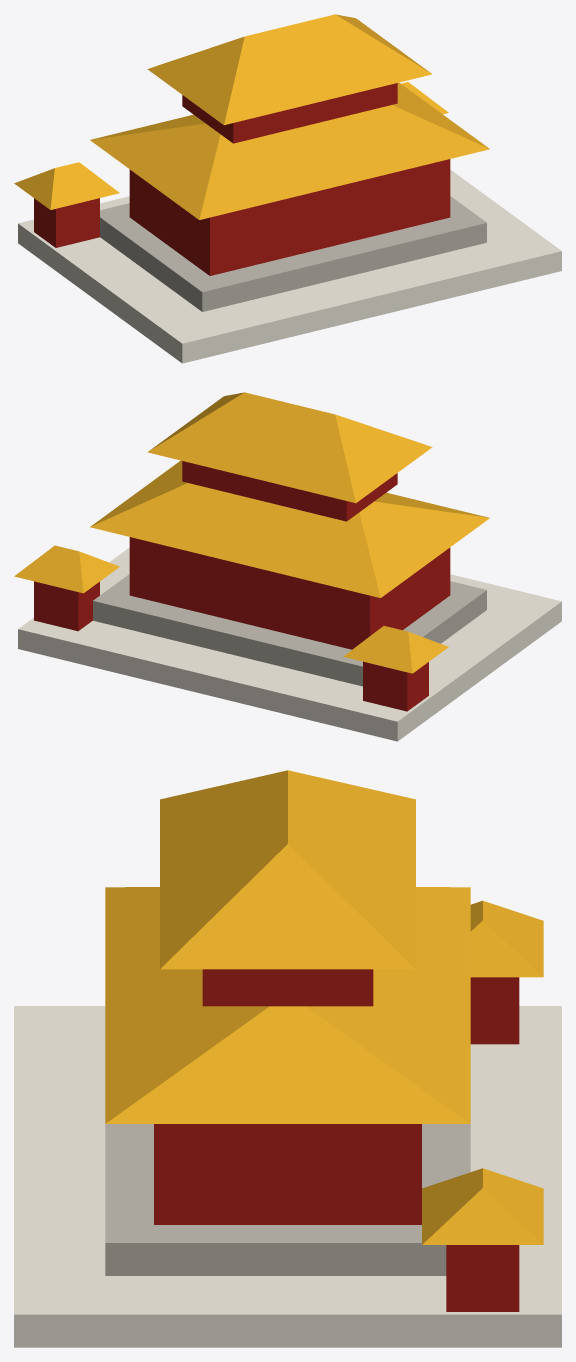
File: forbidden_city.glb
The picture shows the model from 3 angles, top to bottom: view 1: azimuth 30°, elevation 25°; view 2: azimuth 150°, elevation 25°; view 3: azimuth 270°, elevation 25°; orthographic projection. The views are drawn at different scales.
Parts seen in each view (by area): view 1: forbidden_city; view 2: forbidden_city; view 3: forbidden_city.
Part boxes in pixels (left/top/right/bottom): forbidden_city: left=14, top=14, right=561, bottom=363; forbidden_city: left=14, top=392, right=561, bottom=741; forbidden_city: left=14, top=770, right=561, bottom=1347.
Size of the model in its own units: 1.26 by 0.7 by 0.9.
